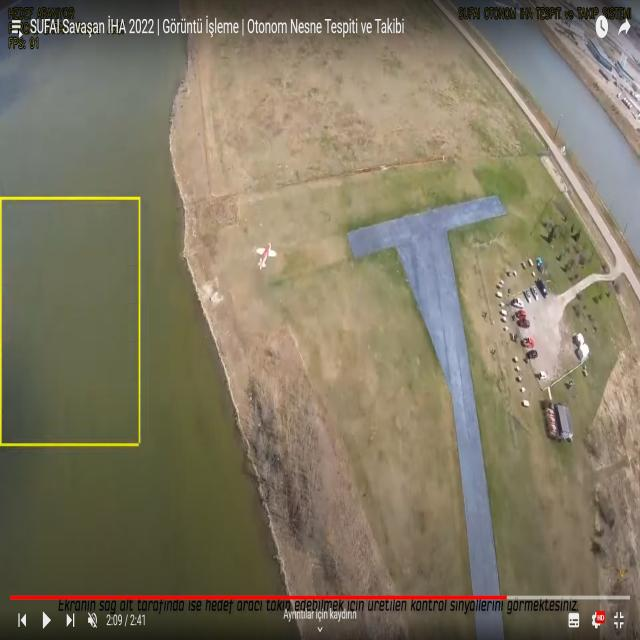iha: (248, 239, 272, 271)
